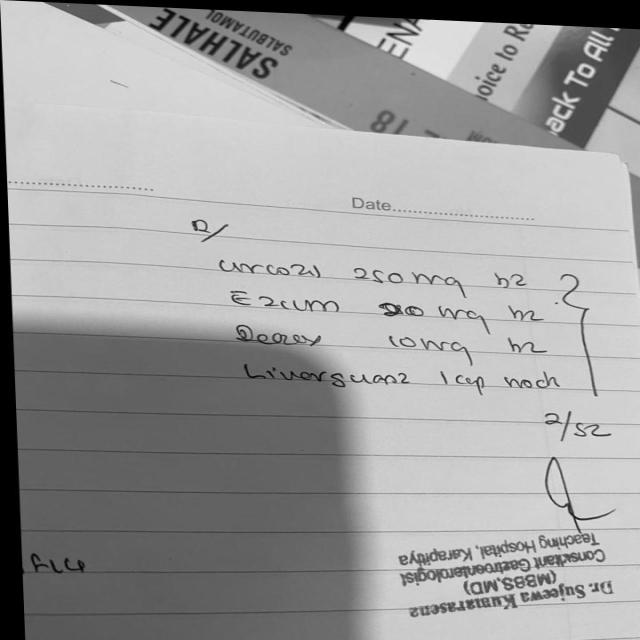Prescription: (232, 358, 625, 444), (207, 247, 530, 287), (224, 283, 548, 319), (227, 320, 554, 352)
